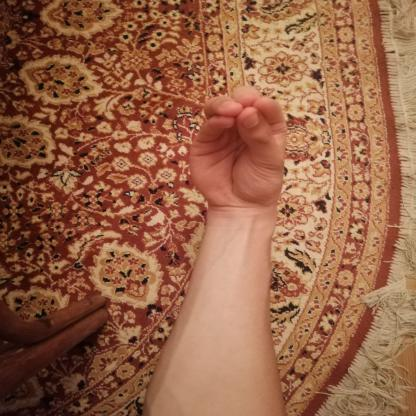HA: (166, 76, 315, 218)
